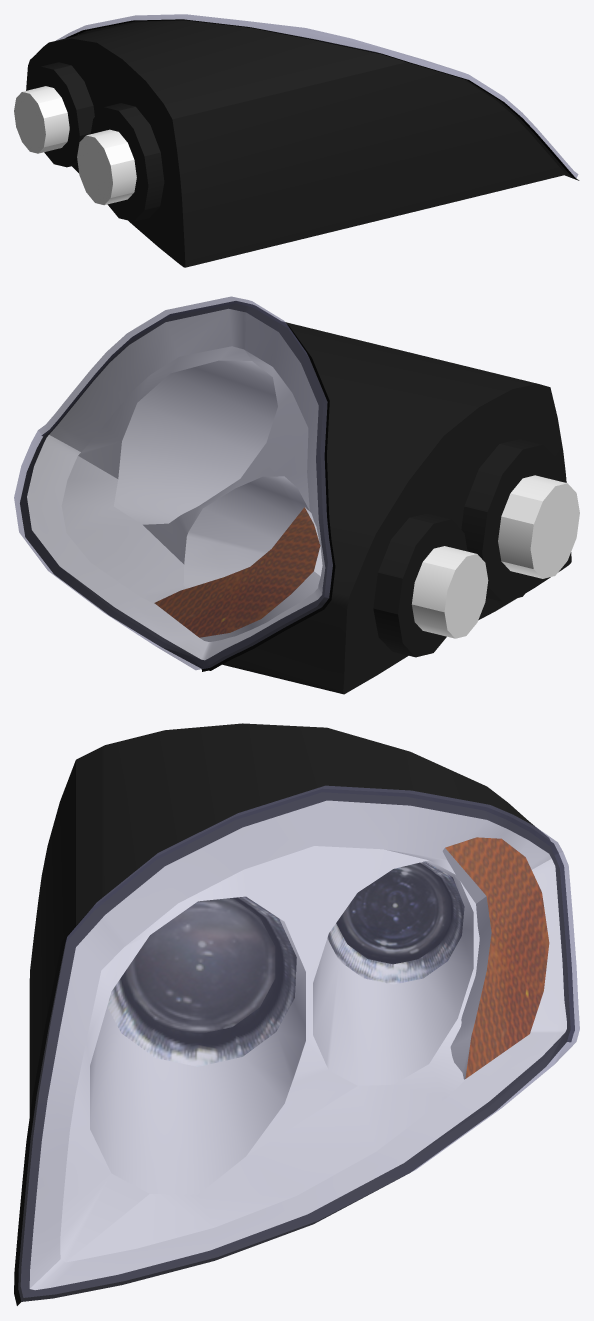
3 renders of one model, top to bottom at view 1: azimuth 30°, elevation 25°; view 2: azimuth 150°, elevation 25°; view 3: azimuth 270°, elevation 25°, orthographic. The views are drawn at different scales.
Parts seen in each view (by area): view 1: U417_061B_L_U417_061B_L_5_N, U417_061B_L_U417_061B_L_3_N, U417_061B_L_U417_061B_L_6_DTaSI, U417_061B_L_U417_061B_L_7_N; view 2: U417_061B_L_U417_061B_L_6_DTaSI, U417_061B_L_U417_061B_L_3_N, U417_061B_L_U417_061B_L_5_N, U417_061B_L_U417_061B_L_4_N, U417_061B_L_U417_061B_L_7_N; view 3: U417_061B_L_U417_061B_L_6_DTaSI, U417_061B_L_U417_061B_L_3_N, U417_061B_L_U417_061B_L_5_N, U417_061B_L_U417_061B_L_2_N, U417_061B_L_U417_061B_L_4_N, U417_061B_L_1_N_U417_061B_L, U417_061B_L_U417_061B_L_7_N.
Boxes of the visible parts, x1,y1,x2,y2 form: U417_061B_L_U417_061B_L_5_N: (26, 20, 574, 267); U417_061B_L_U417_061B_L_3_N: (14, 86, 136, 205); U417_061B_L_U417_061B_L_6_DTaSI: (56, 14, 578, 177); U417_061B_L_U417_061B_L_7_N: (65, 19, 579, 180); U417_061B_L_U417_061B_L_6_DTaSI: (14, 296, 332, 669); U417_061B_L_U417_061B_L_3_N: (27, 309, 579, 660); U417_061B_L_U417_061B_L_5_N: (20, 303, 571, 694); U417_061B_L_U417_061B_L_4_N: (154, 507, 320, 637); U417_061B_L_U417_061B_L_7_N: (42, 301, 335, 671); U417_061B_L_U417_061B_L_6_DTaSI: (18, 785, 579, 1301); U417_061B_L_U417_061B_L_3_N: (29, 800, 566, 1289); U417_061B_L_U417_061B_L_5_N: (18, 723, 570, 1301); U417_061B_L_U417_061B_L_2_N: (107, 896, 296, 1066); U417_061B_L_U417_061B_L_4_N: (445, 837, 549, 1078); U417_061B_L_1_N_U417_061B_L: (327, 861, 464, 984); U417_061B_L_U417_061B_L_7_N: (14, 789, 574, 1305).
Size of the model in its own units: 54 by 20.81 by 37.53.
